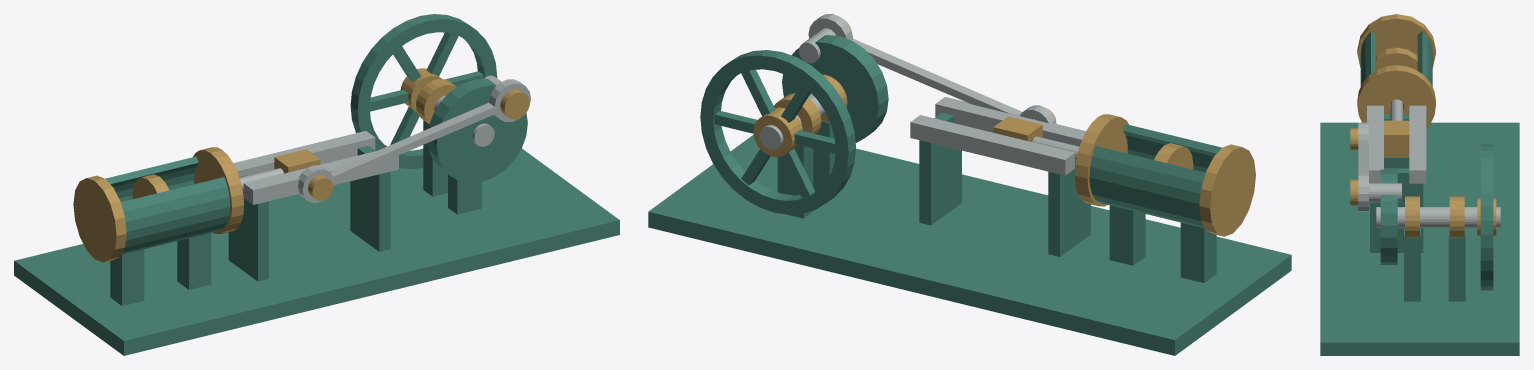
The picture shows the model from 3 angles, left to right: view 1: azimuth 30°, elevation 25°; view 2: azimuth 150°, elevation 25°; view 3: azimuth 270°, elevation 25°; orthographic projection. The views are drawn at different scales.
Parts seen in each view (by area): view 1: WholeGroundBenchBase, WholeOpenTopCylinderChamber, WholeCrankDisk, WholeFlywheelRim, WholeInclinedTwoEyeConnectingRod, WholeRearCylinderCover, GuideFramePost_1, GuideFramePost_0, FrontFullCrossheadGuide, BackFullCrossheadGuide, WholeFrontBoredGland, CylinderPedestal_1 (+13 smaller); view 2: WholeGroundBenchBase, WholeFlywheelRim, WholeOpenTopCylinderChamber, WholeCrankDisk, BackFullCrossheadGuide, WholeRearCylinderCover, WholeInclinedTwoEyeConnectingRod, GuideFramePost_1, GuideFramePost_0, WholeFrontBoredGland, FrontFullCrossheadGuide, CylinderPedestal_1 (+14 smaller); view 3: WholeGroundBenchBase, WholeFrontBoredGland, WholeFlywheelRim, WholeRearCylinderCover, WholeCrankDisk, BackFullCrossheadGuide, GuideFramePost_1, WholeOpenTopCylinderChamber, WholeCrankshaft, FarBearingPedestal, FrontFullCrossheadGuide, NearBearingPedestal (+11 smaller).
Boxes of the visible parts, <box> form: WholeGroundBenchBase: <box>14,148,619,355</box>; WholeOpenTopCylinderChamber: <box>105,156,230,254</box>; WholeCrankDisk: <box>428,78,527,183</box>; WholeFlywheelRim: <box>350,14,497,168</box>; WholeInclinedTwoEyeConnectingRod: <box>298,79,530,202</box>; WholeRearCylinderCover: <box>73,175,126,262</box>; GuideFramePost_1: <box>350,145,390,251</box>; GuideFramePost_0: <box>228,175,268,281</box>; FrontFullCrossheadGuide: <box>243,151,398,204</box>; BackFullCrossheadGuide: <box>233,131,375,176</box>; WholeFrontBoredGland: <box>193,147,243,233</box>; CylinderPedestal_1: <box>177,233,211,289</box>; WholeGroundBenchBase: <box>648,135,1291,355</box>; WholeFlywheelRim: <box>700,50,855,214</box>; WholeOpenTopCylinderChamber: <box>1089,124,1221,228</box>; WholeCrankDisk: <box>782,35,888,142</box>; BackFullCrossheadGuide: <box>910,115,1074,175</box>; WholeRearCylinderCover: <box>1199,144,1255,236</box>; WholeInclinedTwoEyeConnectingRod: <box>808,14,1056,123</box>; GuideFramePost_1: <box>919,112,961,225</box>; GuideFramePost_0: <box>1048,144,1090,256</box>; WholeFrontBoredGland: <box>1074,114,1128,206</box>; FrontFullCrossheadGuide: <box>935,97,1085,145</box>; CylinderPedestal_1: <box>1109,205,1145,265</box>; WholeGroundBenchBase: <box>1320,122,1519,355</box>; WholeFrontBoredGland: <box>1357,65,1435,128</box>; WholeFlywheelRim: <box>1480,144,1493,290</box>; WholeRearCylinderCover: <box>1357,14,1435,67</box>; WholeCrankDisk: <box>1380,169,1397,264</box>; BackFullCrossheadGuide: <box>1409,105,1426,183</box>; GuideFramePost_1: <box>1370,168,1423,252</box>; WholeOpenTopCylinderChamber: <box>1360,31,1432,103</box>; WholeCrankshaft: <box>1376,207,1500,227</box>; FarBearingPedestal: <box>1448,228,1465,301</box>; FrontFullCrossheadGuide: <box>1367,105,1383,183</box>; NearBearingPedestal: <box>1404,228,1420,301</box>.
Size of the model in its own units: 2.45 by 0.825 by 0.94.
